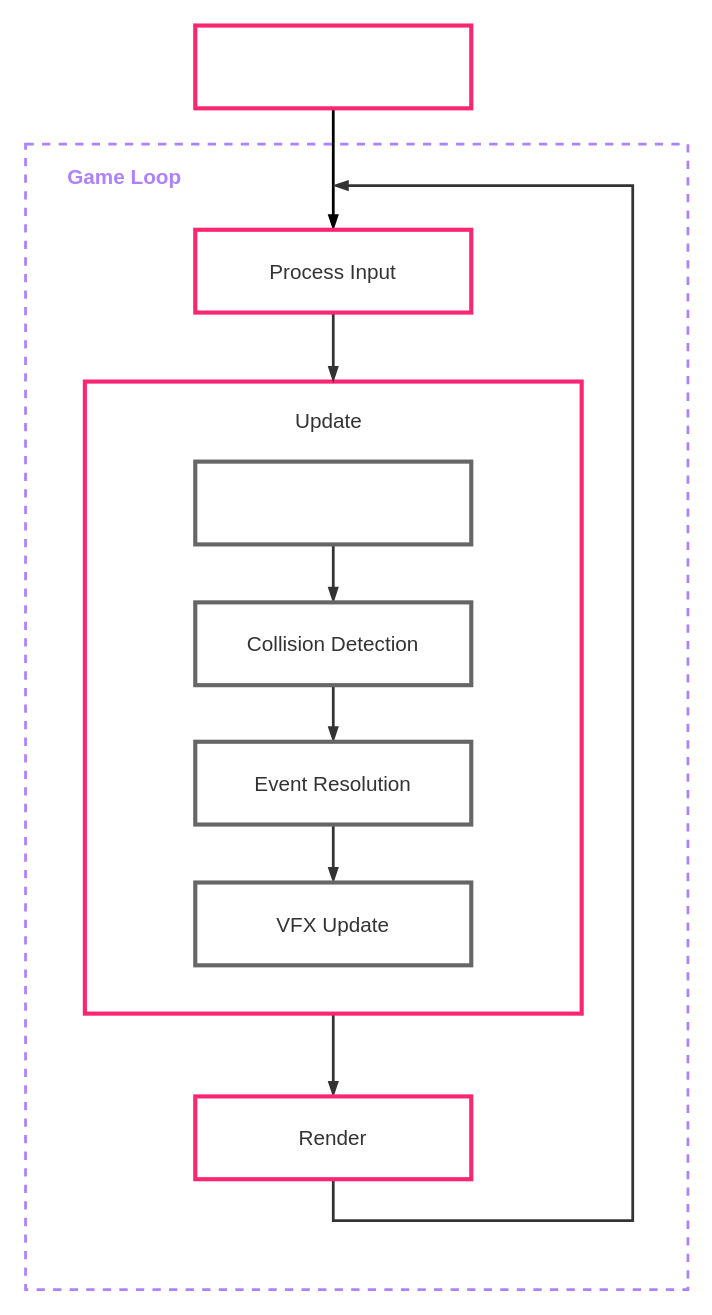
The diagram is 712 pixels wide and 1315 high, and some of its shapes have lost their labels. Here are the shapes that lost their labels. From the top down, the centre of each, then its label:
At point 333,66: "Game Initialization".
At point 333,502: "Update Dynamic Elements".
